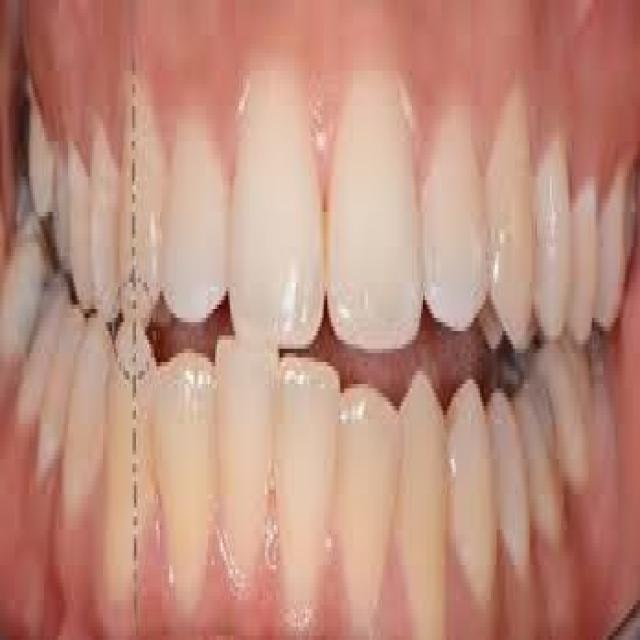tooth: (324, 27, 425, 344), (230, 57, 325, 349), (24, 101, 116, 309), (337, 358, 399, 631), (212, 327, 278, 582), (33, 283, 103, 516), (151, 348, 213, 582), (423, 101, 487, 326), (168, 110, 234, 327), (108, 322, 156, 605), (398, 362, 452, 613), (488, 66, 534, 344), (279, 366, 333, 592), (116, 75, 164, 313), (447, 380, 495, 587), (485, 384, 528, 569), (513, 384, 561, 538), (534, 141, 566, 340), (544, 349, 587, 468), (574, 190, 596, 335), (4, 256, 41, 335)
